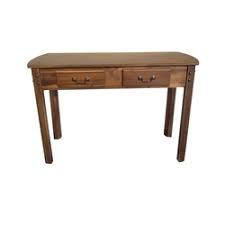desk: (15, 32, 207, 183)
